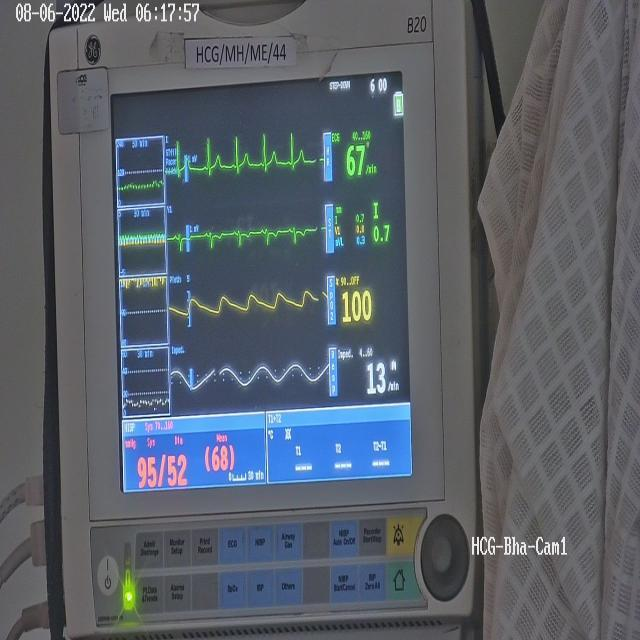Monitor: (41, 0, 484, 638)
